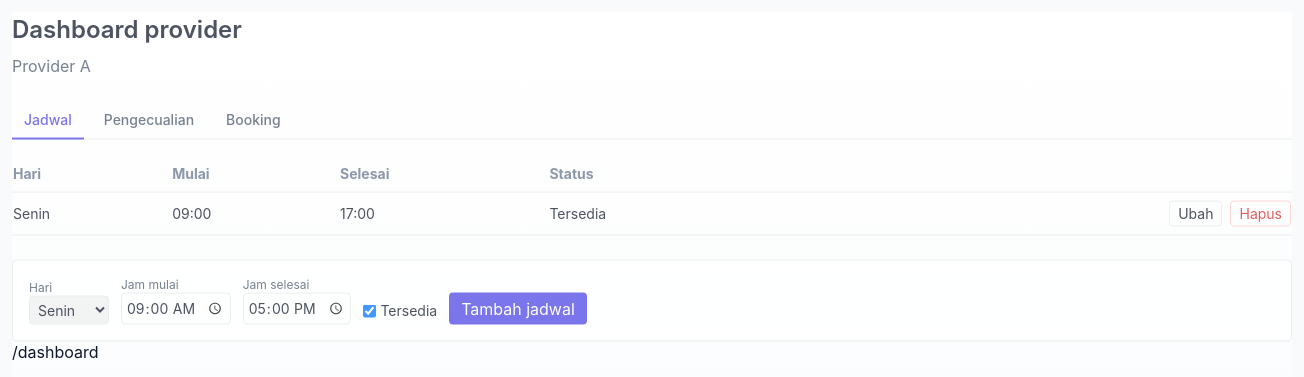
Test: ProviderDashboardPage › filters bookings by status
The image size is (1304, 377).
Click the tab "Booking" at {"x": 253, "y": 120}, box [214,102,293,140]
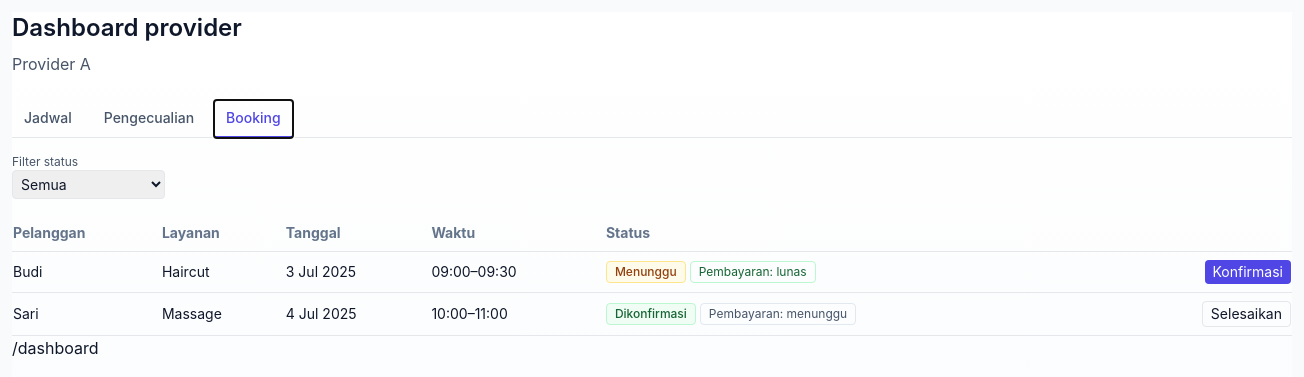
Result: the row with test id "provider-booking-201" is shown at [12,252,1292,292]
Select "Dikonfirmasi" in the dropdown labelled "Filter status" at {"x": 88, "y": 184}, box [12,170,165,199]
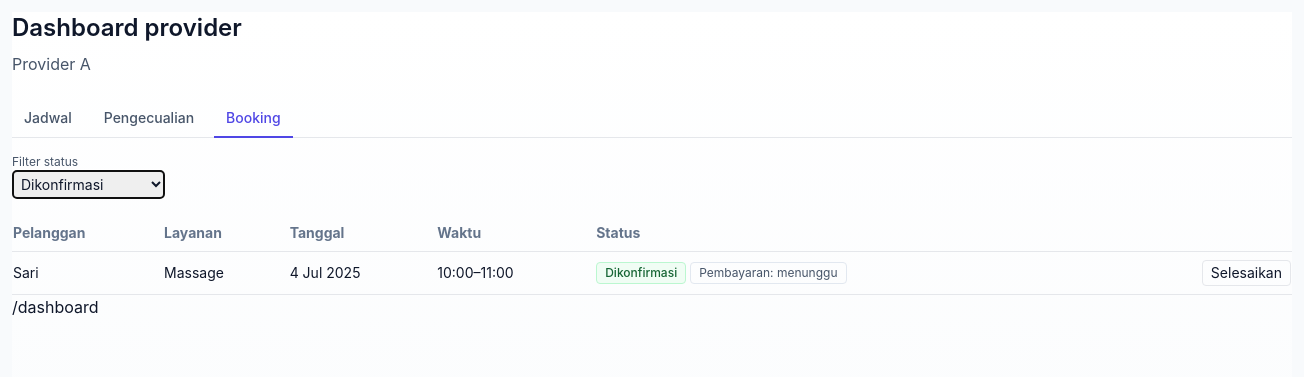
Result: the row with test id "provider-booking-202" is shown at [12,252,1292,294]
Result: the row with test id "provider-booking-201" is gone
